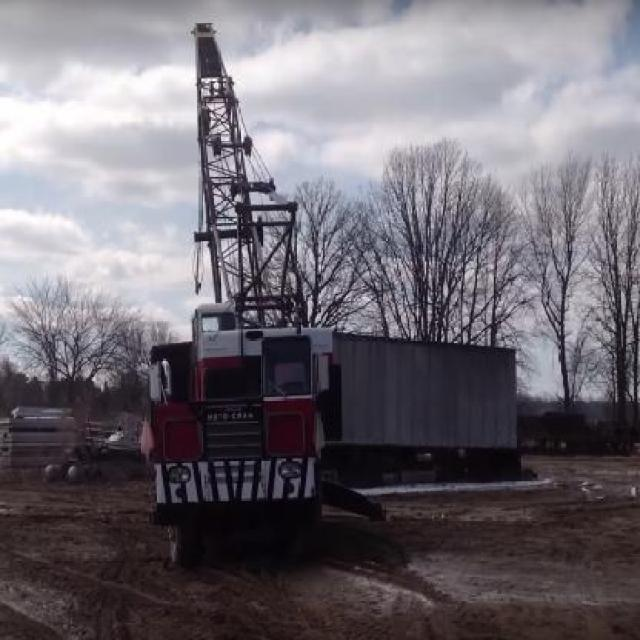Mobile Crane: (144, 20, 336, 574)
